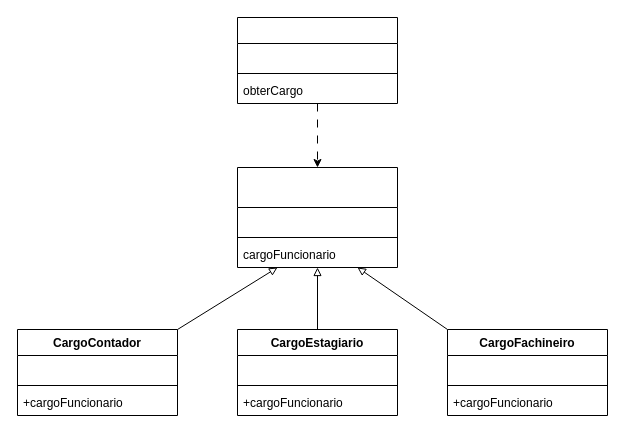
Image size: 625x436. Some labels were removed from this diagram. Here are the shapes that lost their labels. From the top down, the box of each, then its label:
(236, 16, 398, 104): CargoFactory
(236, 166, 398, 268): <<interface>> ICargo
